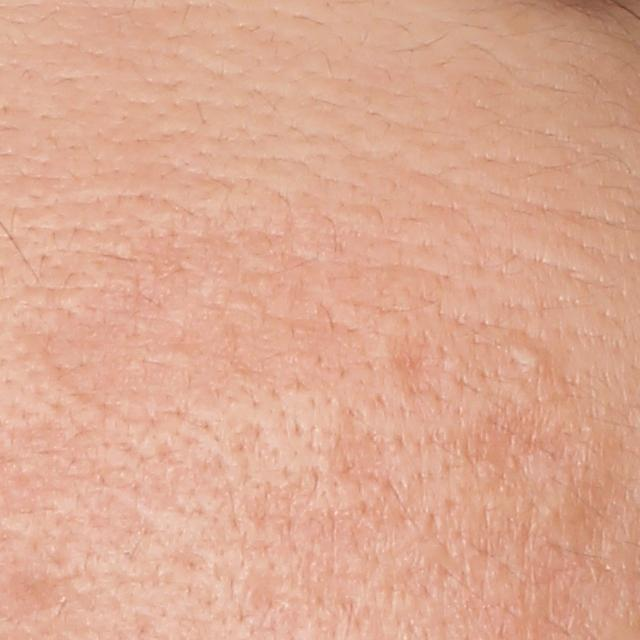atrophic_scar: (457, 405, 554, 477), (321, 426, 398, 483), (388, 326, 445, 398)
comedo: (509, 336, 552, 373)
